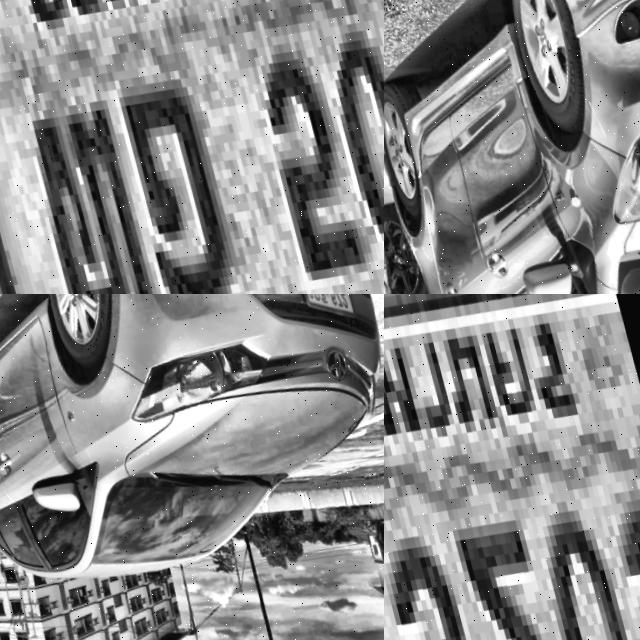license-plate: (0, 0, 384, 294), (384, 294, 640, 640), (289, 294, 354, 316)
